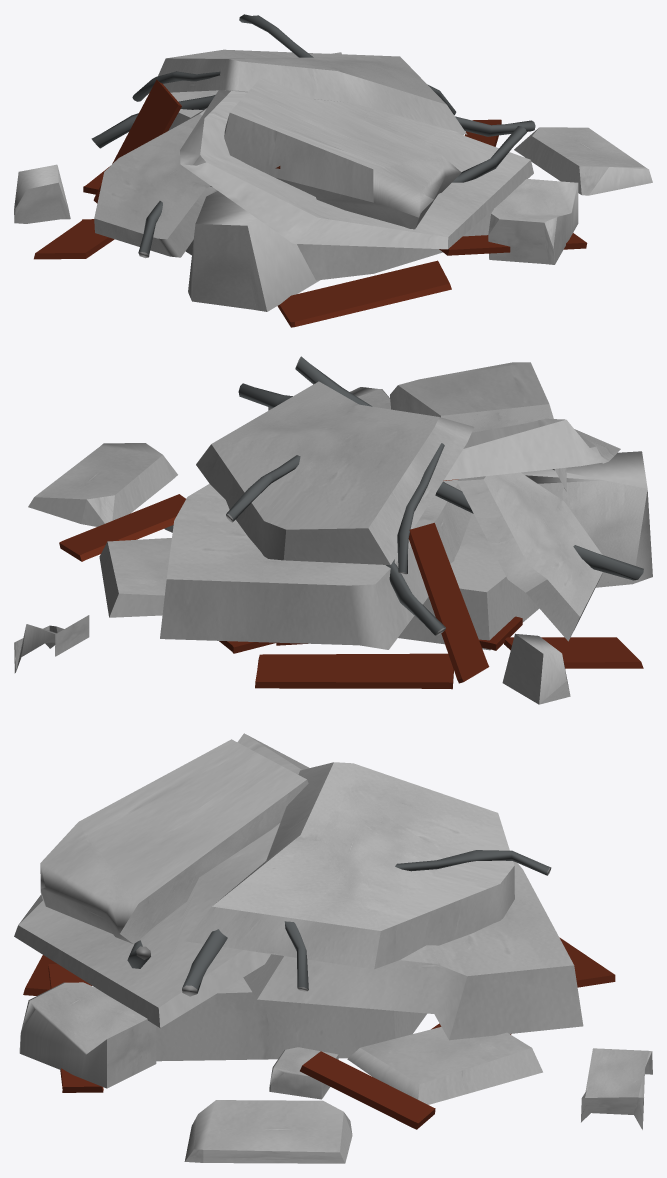
File: Rubble_02.fbx
The picture shows the model from 3 angles, top to bottom: view 1: azimuth 30°, elevation 25°; view 2: azimuth 150°, elevation 25°; view 3: azimuth 270°, elevation 25°; orthographic projection. The views are drawn at different scales.
Visible parts, largest first — view 1: Rubble_02A; view 2: Rubble_02A; view 3: Rubble_02A.
Part boxes in pixels (x1,y1,x2,y2): Rubble_02A: (14, 14, 652, 327); Rubble_02A: (14, 356, 652, 704); Rubble_02A: (14, 733, 652, 1163).
Size of the model in its own units: 6.16 by 2.03 by 5.19.
